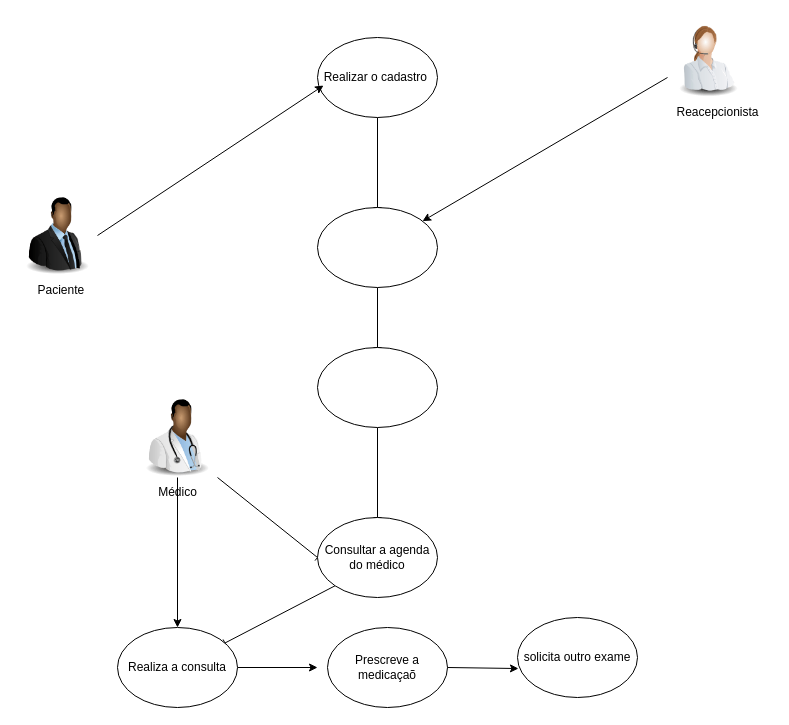
The diagram is 789 pixels wide and 725 high, and some of its shapes have lost their labels. Here are the shapes that lost their labels. From the top down, the centre of each, then its label:
At (377,247): "Realizar o login".
At (377,387): "Escolher a espcialidade e o médico".
